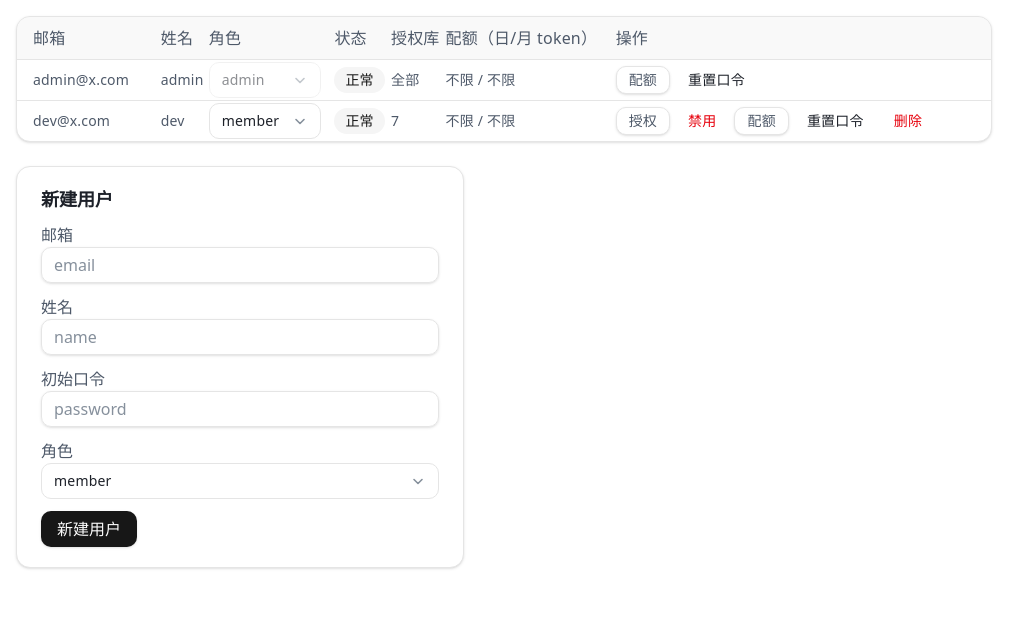
Scenario: 创建：初始口令不足 8 位 → 友好文案拦截，不发请求
The width and height of the screenshot is (1009, 618).
Expected: the text "dev@x.com" is shown, [17,100,161,141]
Type "n@x.com" into the field labelled "邮箱".
click(240, 265); type("n@x.com")  # box [41,247,439,283]
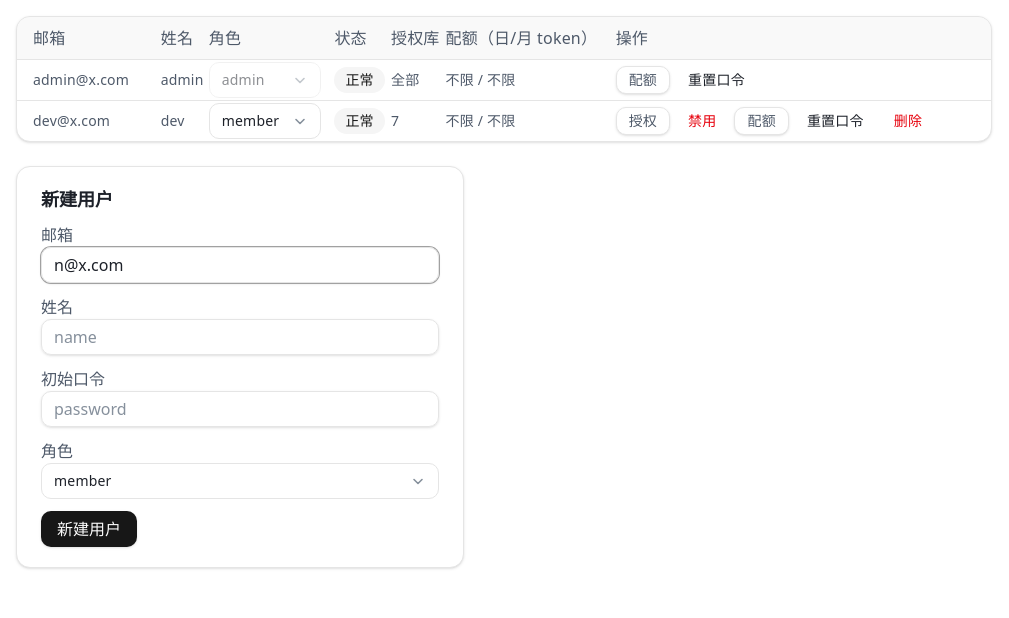
Type "新人" into the field labelled "姓名".
click(240, 337); type("新人")  # box [41,319,439,355]
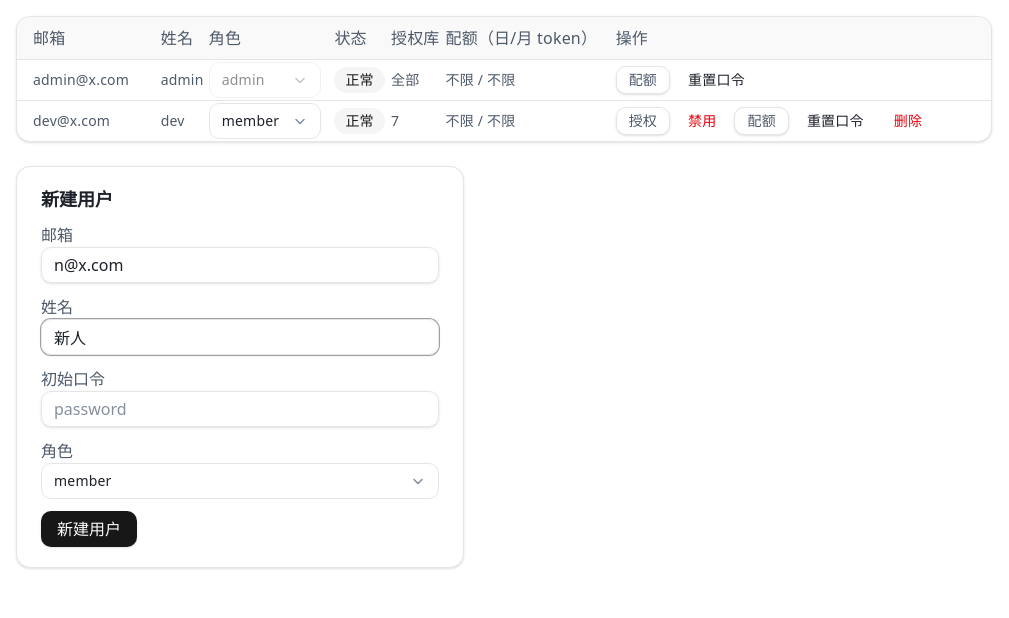
Type "short" into the password field labelled "初始口令".
click(240, 409); type("short")  # box [41,391,439,427]
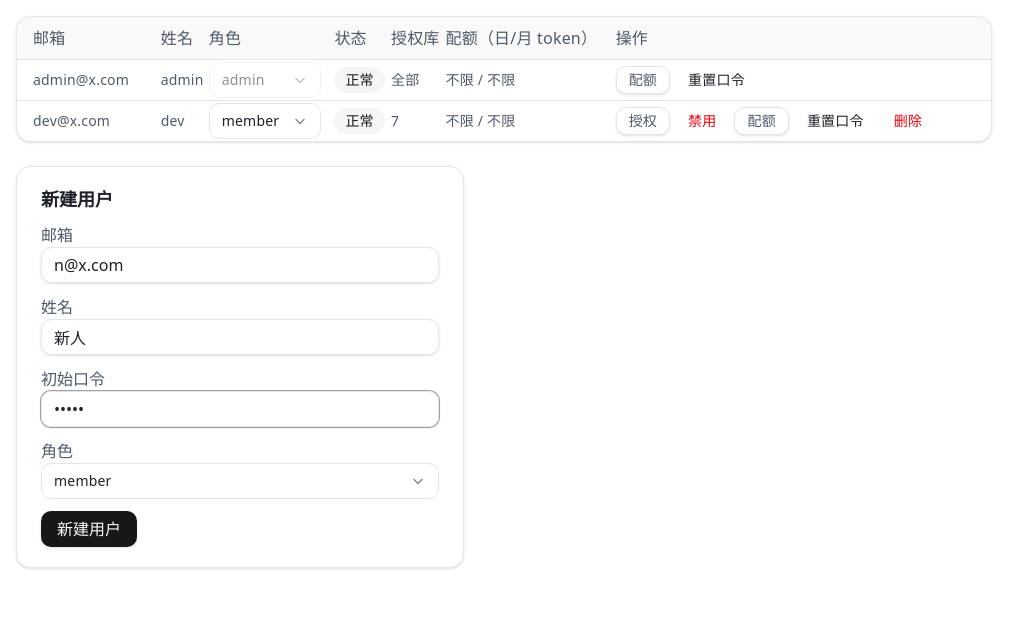
Click the button "新建用户".
click(89, 529)  # box [41,511,137,547]
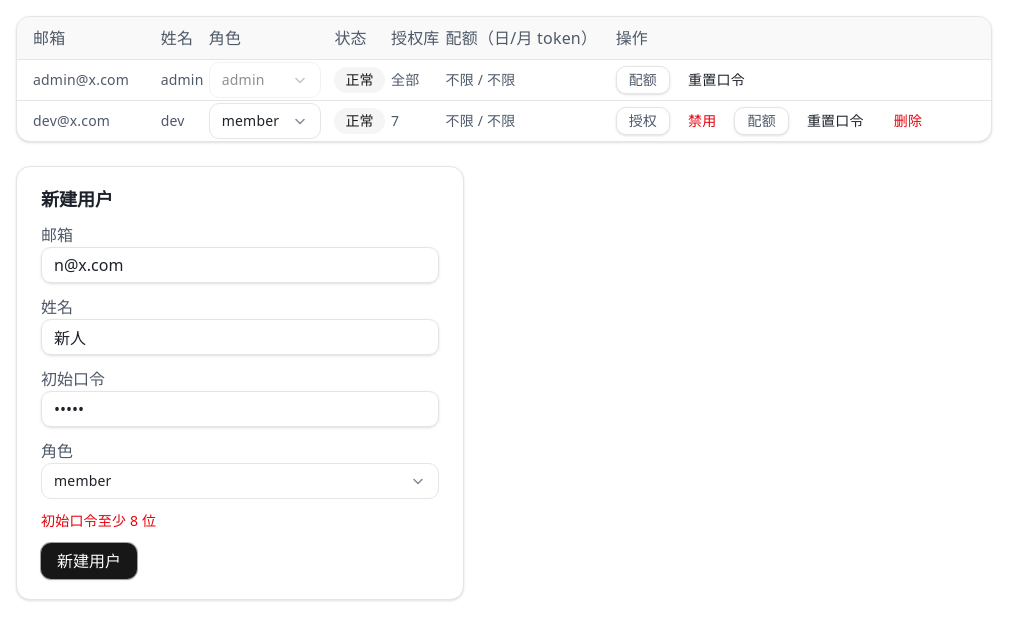
Now the text "初始口令至少 8 位" is shown, box [41,511,156,530]
